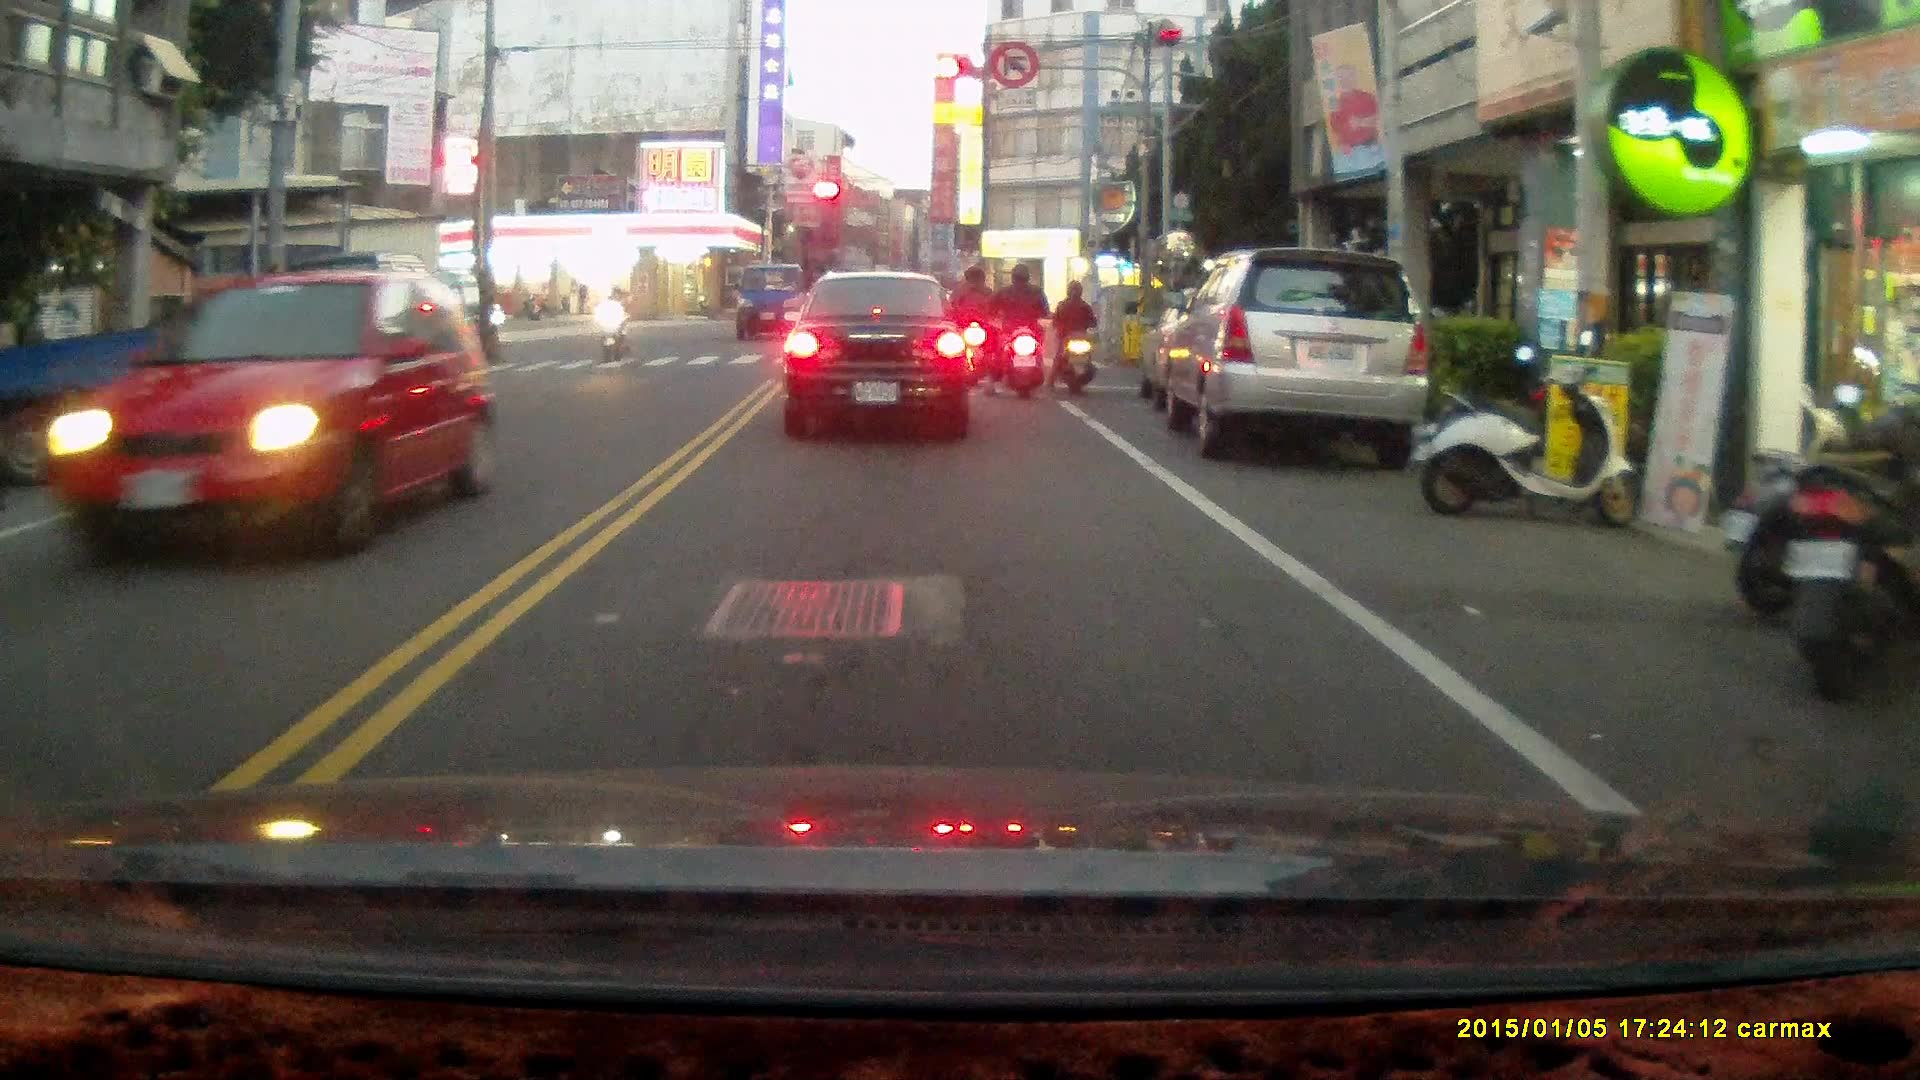rider: (985, 259, 1051, 401), (1046, 275, 1099, 395), (946, 264, 993, 385), (599, 280, 628, 362)
vehicle: (39, 267, 488, 567), (1152, 244, 1431, 460), (785, 268, 977, 437)
